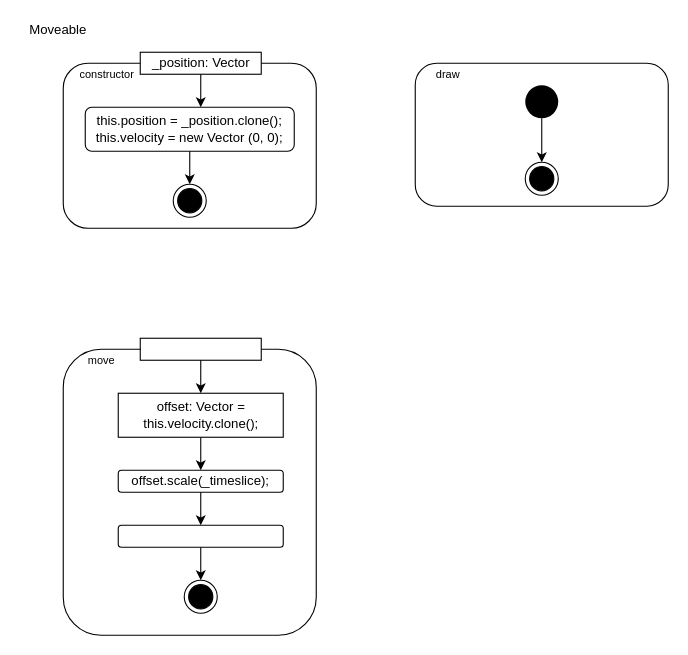
Image size: 688x655. Some labels were removed from this diagram. The shapes that lost their labels are listed below. From the top down, each one's centre as x and y in pixels, then its label:
(x=200, y=348): _timeslice: number
(x=200, y=535): this.position.add(offset);
